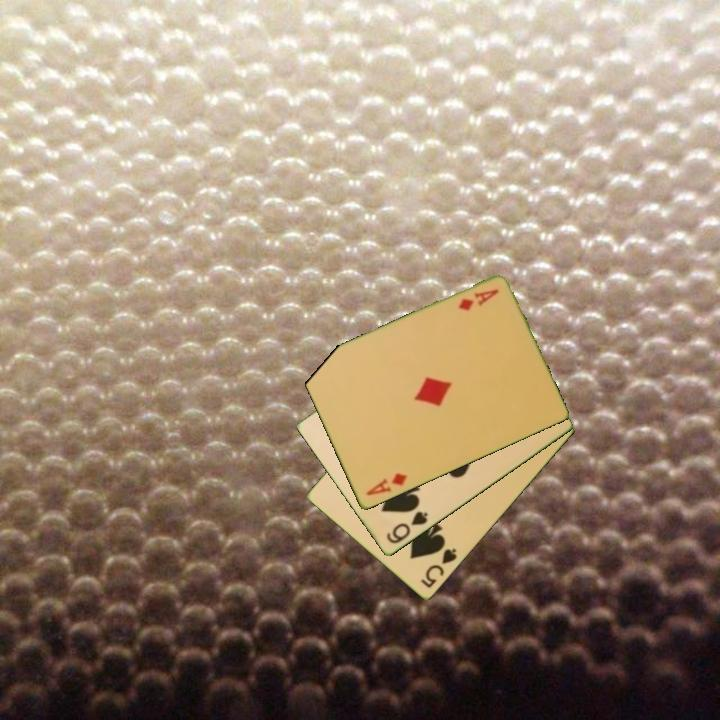5s: (417, 545, 460, 591)
6s: (383, 508, 431, 547)
Ad: (362, 470, 410, 499), (455, 286, 502, 314)
